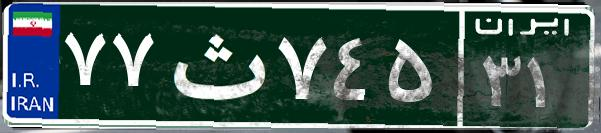1: (525, 38, 570, 115)
3: (475, 38, 525, 113)
4: (330, 28, 385, 110)
5: (385, 28, 445, 110)
7: (273, 28, 330, 110), (57, 26, 110, 107), (110, 28, 158, 105)
ث: (158, 15, 273, 115)
